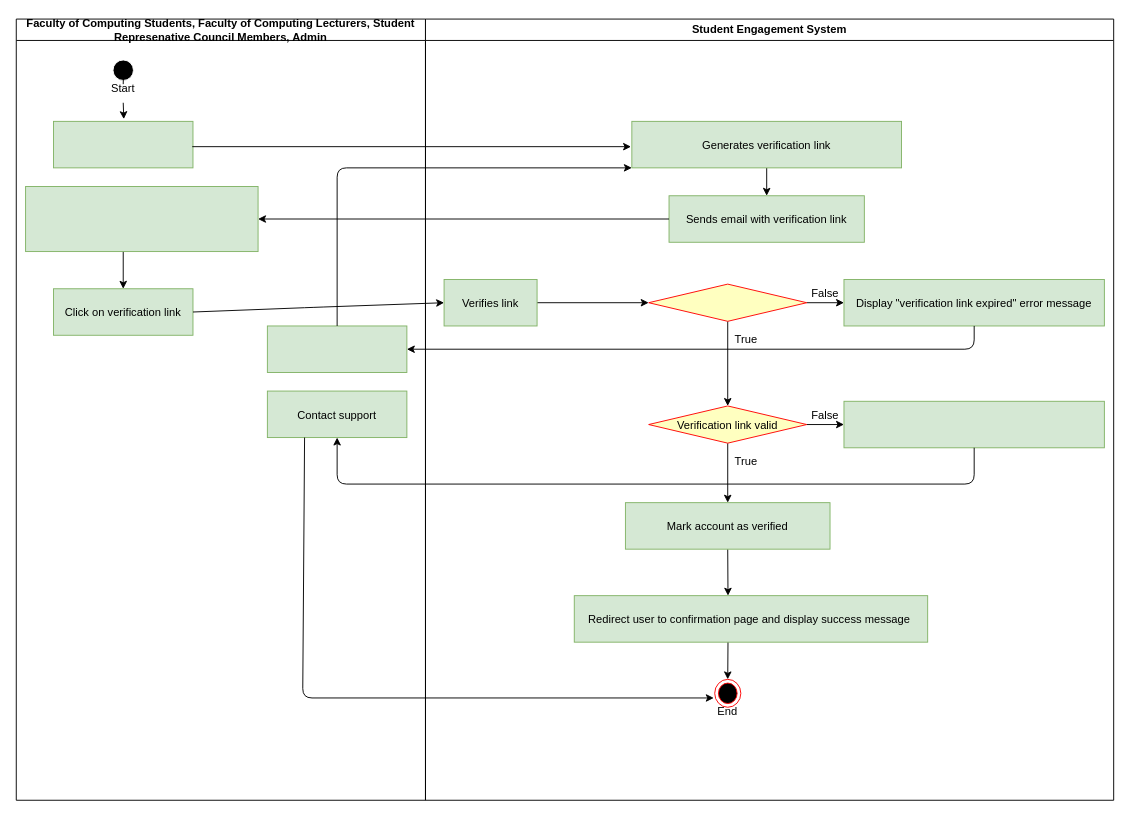
This 1130x817 diagram has some shape labels left out. Here are the shapes that lost their labels. From the top down, the centre of each, then its label:
(x=123, y=144): Completes registration form
(x=141, y=219): Checks and opens email with verification link
(x=727, y=302): Verification link not expired
(x=336, y=348): Request new verification link
(x=973, y=424): Display "invalid verification link" error message
